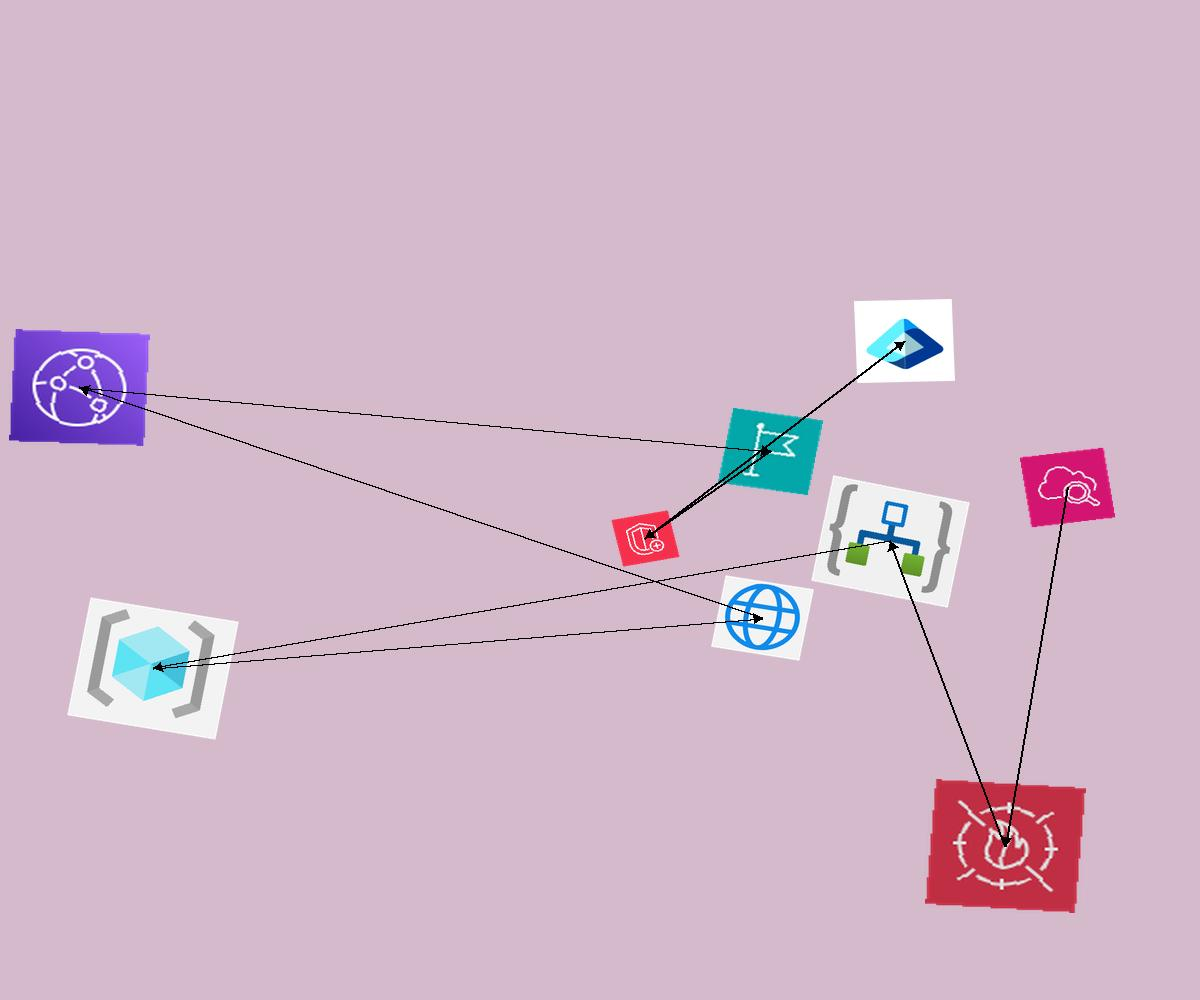AWS-CloudFront: (9, 329, 150, 446)
AWS-CloudWatch: (1019, 447, 1116, 528)
AWS-Region: (717, 407, 824, 496)
AWS-Shield: (611, 510, 680, 567)
AWS-WAF: (925, 779, 1086, 913)
Azure_http: (711, 575, 814, 661)
Azure_integration-204-Logic-Apps: (811, 475, 970, 608)
Azure_microsoft_entra: (854, 299, 955, 383)
Azure_resource_group: (67, 597, 239, 740)
